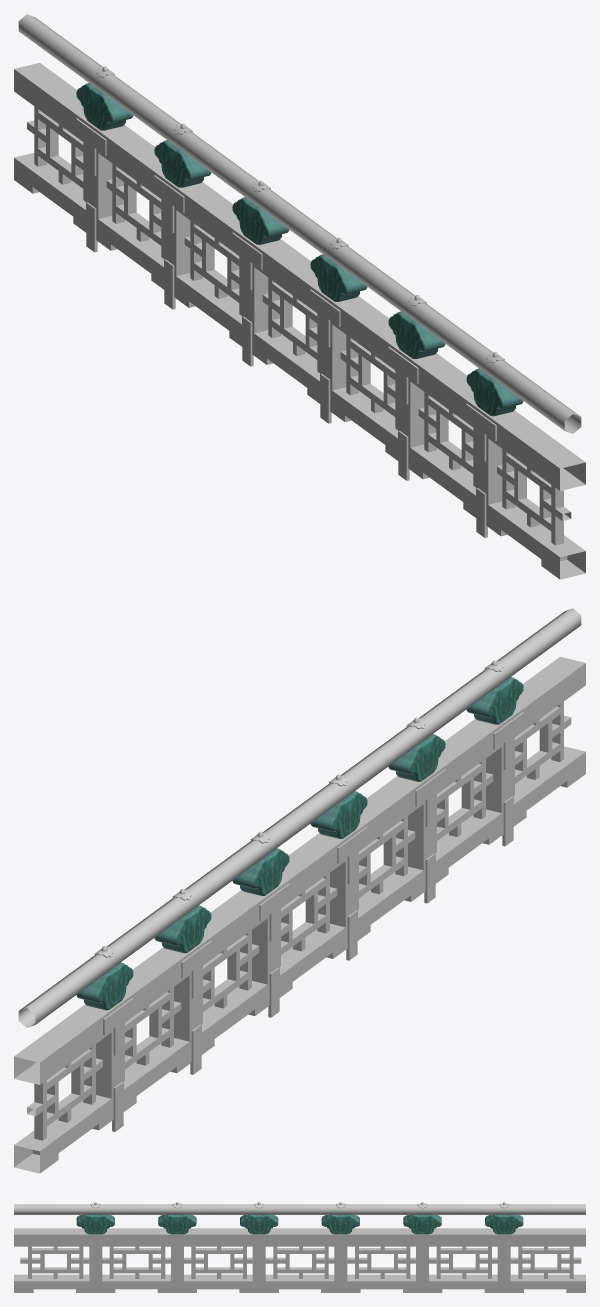
The model's file is SM_Handrail01E.fbx.
3 views of the same model, one above another, from view 1: azimuth 30°, elevation 25°; view 2: azimuth 150°, elevation 25°; view 3: azimuth 270°, elevation 25° (orthographic). The views are drawn at different scales.
Parts seen in each view (by area): view 1: SM_Handrail01E; view 2: SM_Handrail01E; view 3: SM_Handrail01E.
Boxes of the visible parts, <box> form: SM_Handrail01E: <box>14,14,585,579</box>; SM_Handrail01E: <box>14,608,585,1173</box>; SM_Handrail01E: <box>14,1202,585,1292</box>.
Bounding box in the file's own units: 6.64 × 230 × 41.5.
